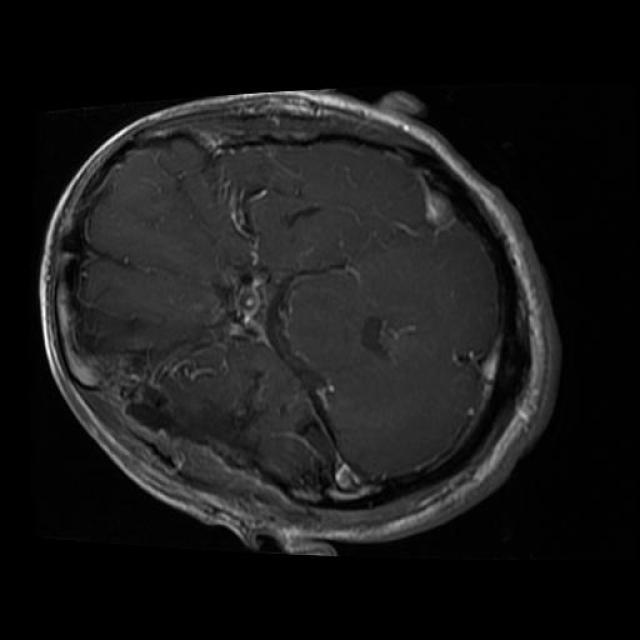Glioma: (133, 347, 336, 498)
